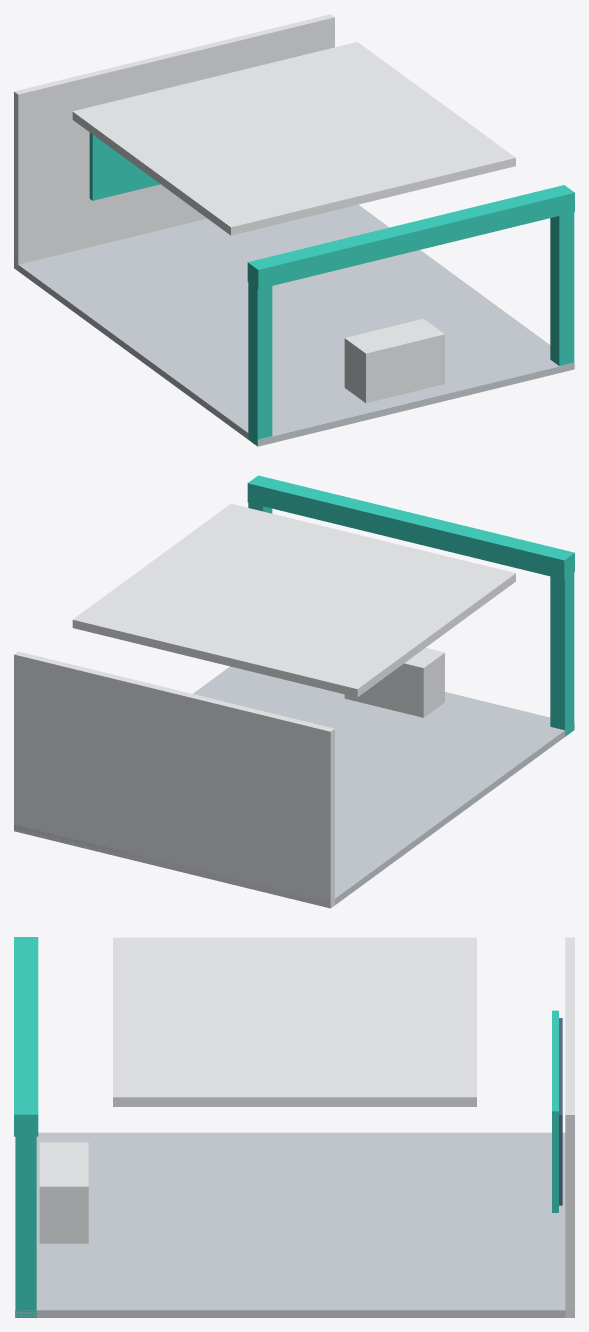
3 views of the same model, one above another, from view 1: azimuth 30°, elevation 25°; view 2: azimuth 150°, elevation 25°; view 3: azimuth 270°, elevation 25° (orthographic). The views are drawn at different scales.
Visible parts, largest first — view 1: Exhibition Booth Concept; view 2: Exhibition Booth Concept; view 3: Exhibition Booth Concept.
Boxes of the visible parts, x1=… form: Exhibition Booth Concept: x1=14, y1=14, x2=574, y2=446; Exhibition Booth Concept: x1=14, y1=475, x2=574, y2=908; Exhibition Booth Concept: x1=14, y1=937, x2=574, y2=1317.
Size of the model in its own units: 6 by 3.34 by 8.01.
